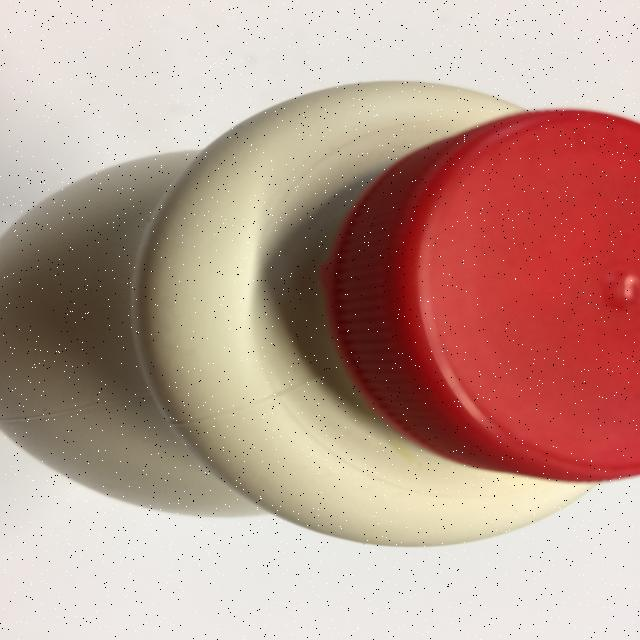plastic: (128, 79, 602, 547), (318, 106, 640, 484)
